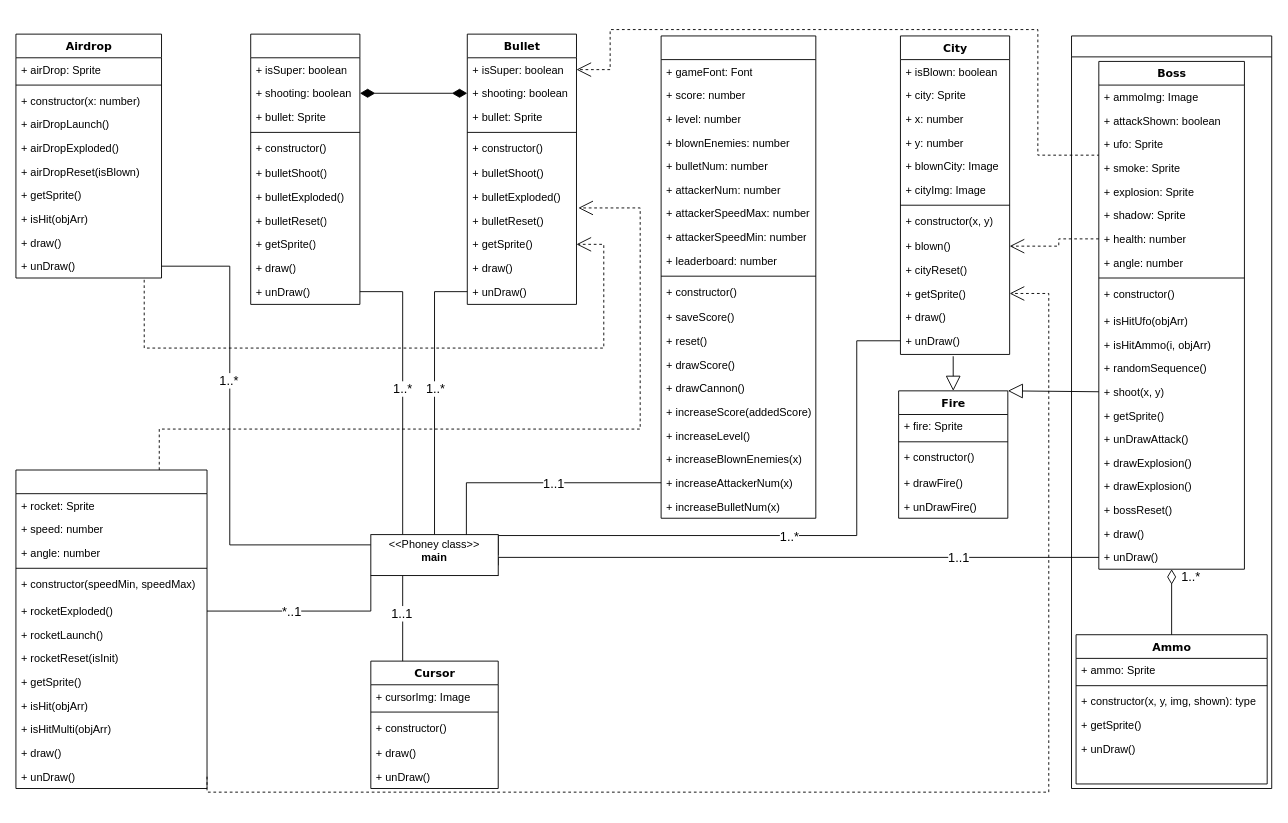
This 1288x823 diagram has some shape labels left out. The shapes that lost their labels are listed below. From the top down, each one's box as (x1, y1, x2, y2) in pixels, then its label:
(250, 33, 360, 304): SuperBullet
(660, 35, 816, 518): StaticDisplay
(1071, 35, 1272, 789): Boss.js
(15, 469, 207, 789): Attacker
